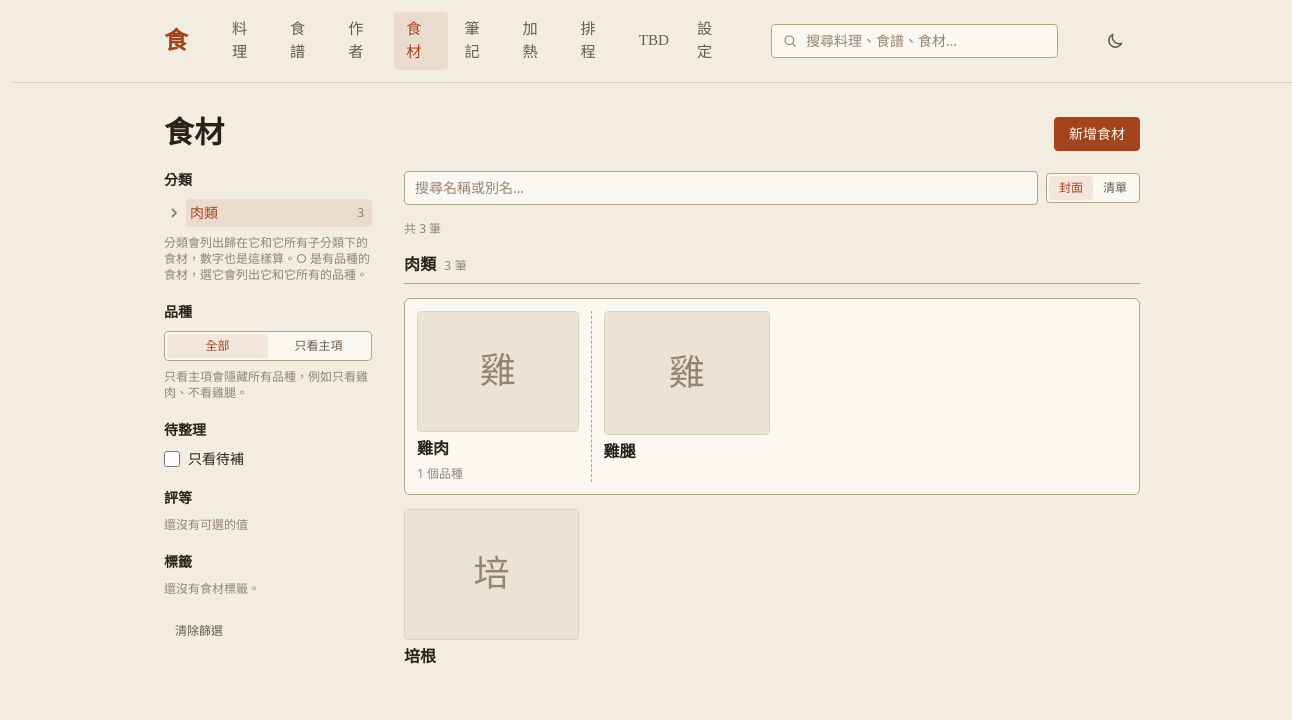
it: the ingredient library › groups › files a group under its category in the tree, and choosing it lists the group
Click the button named "展開 肉類" at (174, 213), box [164,201,184,225]
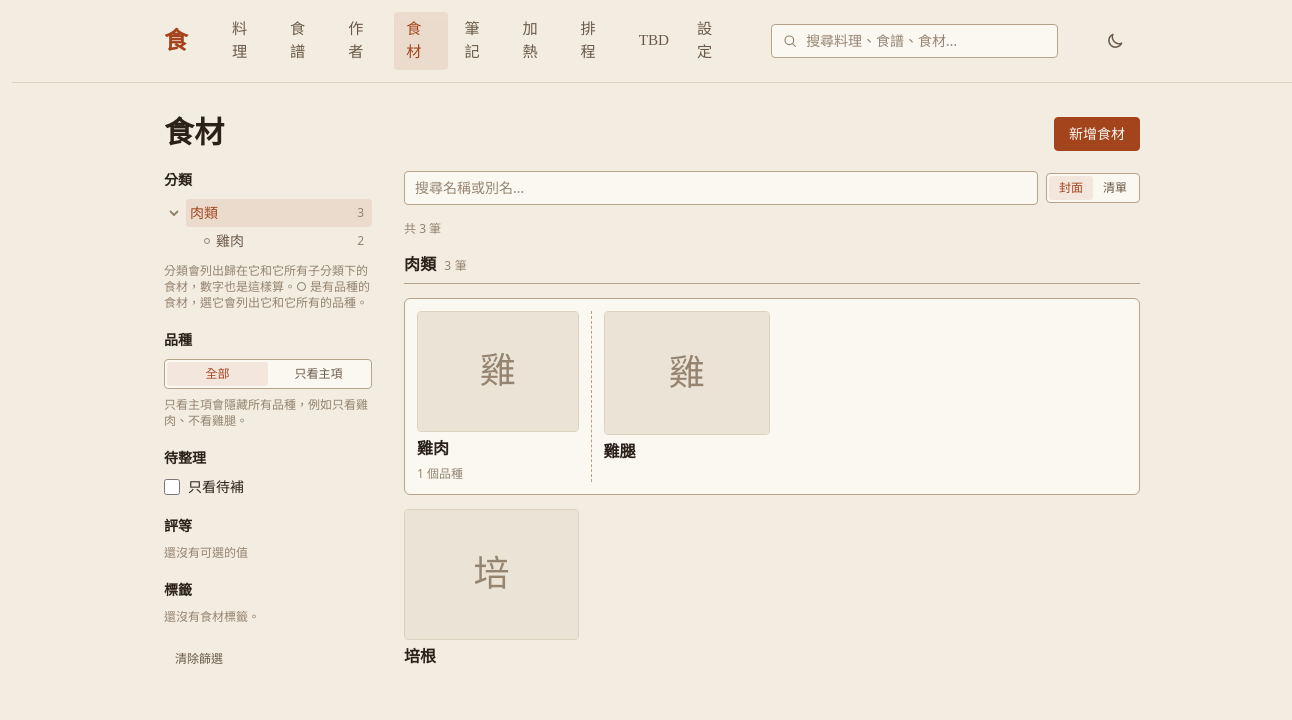
Click the button "雞肉 2" at (286, 241), box [200,227,372,255]
(page scrolled)
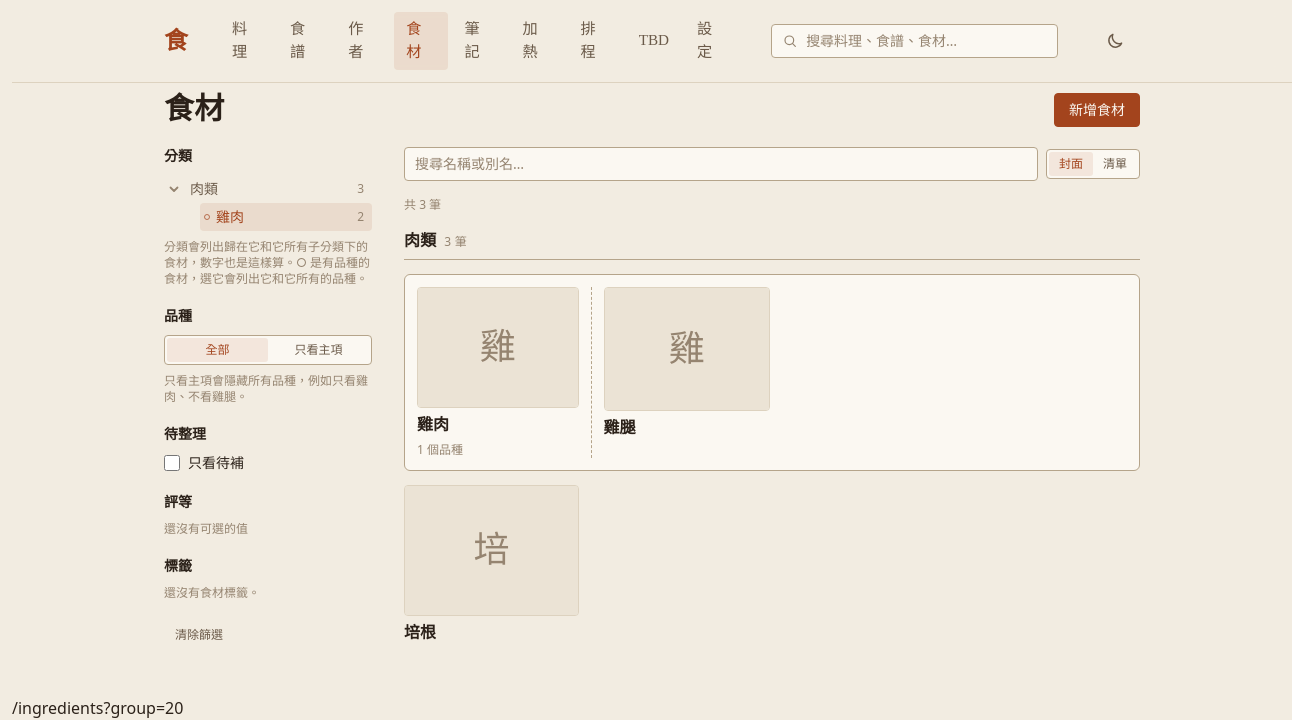
Expected: the text with test id "location" reads "/ingredients?group=20", [12,697,183,719]
